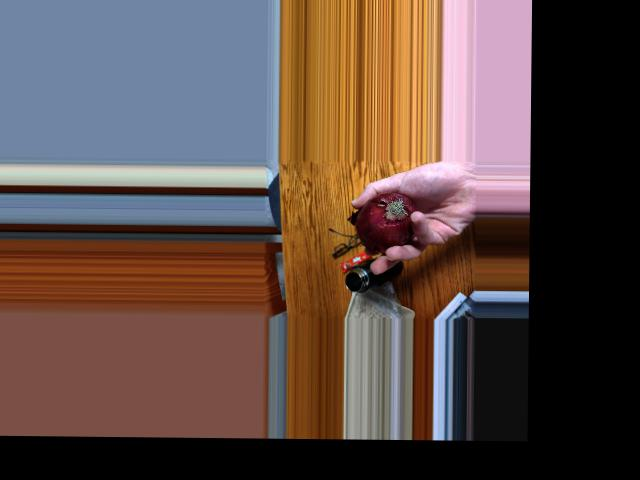onion: (359, 187, 421, 249)
